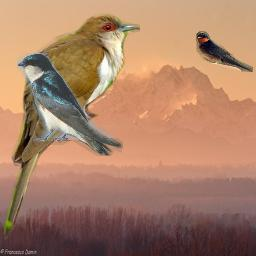Cuckoo: (4, 12, 140, 240)
Swallow: (17, 53, 123, 156), (196, 31, 253, 72)
